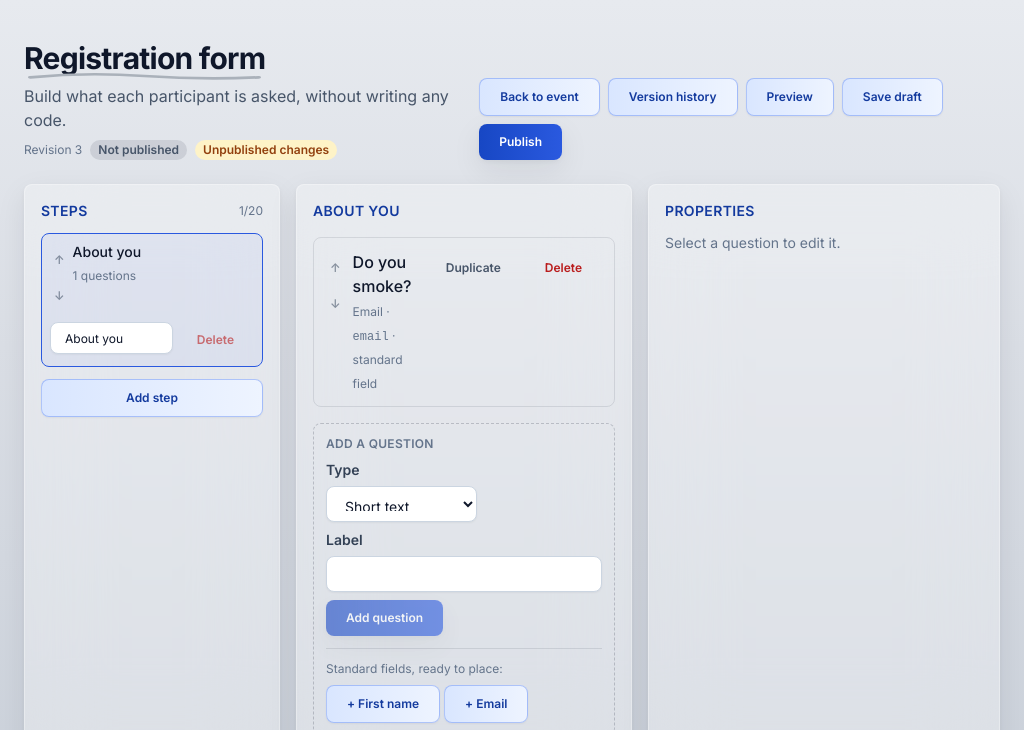
the properties panel › locks the identity of a standard field but not its wording
The width and height of the screenshot is (1024, 730).
What coordinates should you click on to do the following:
click the text "Do you smoke?"
I would click on:
 (385, 274)
Its box is [353,250,418,298].
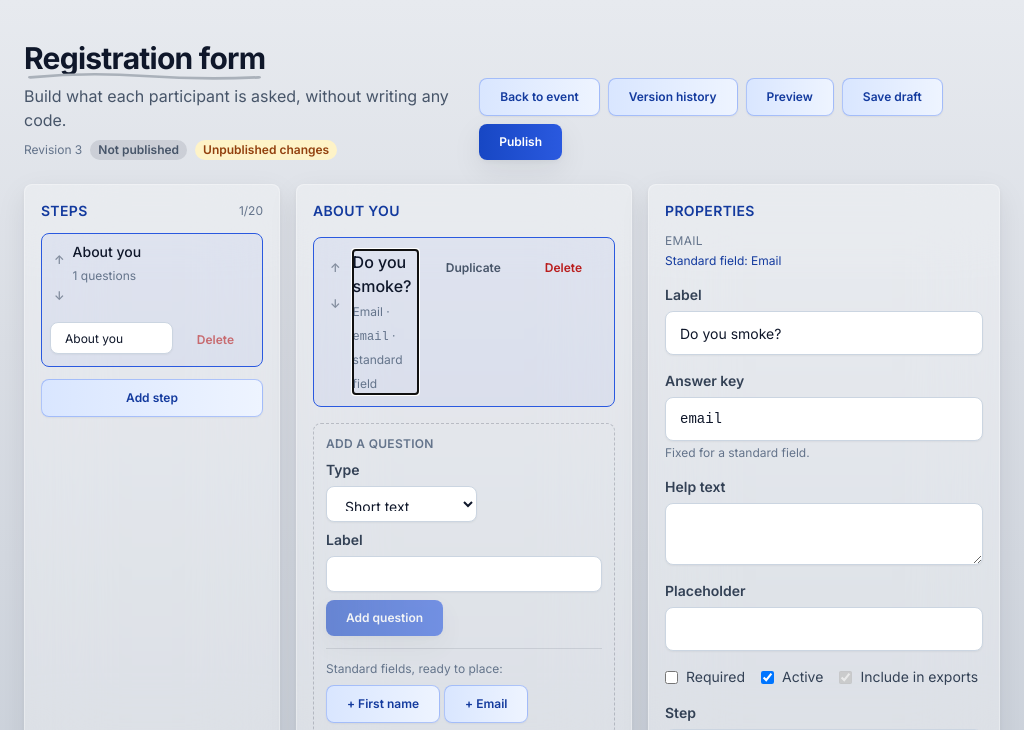
Expected: the field labelled "Answer key" is disabled, [665,397,983,441]
Expected: the field labelled "Label" below "Standard field: Email" is enabled, [665,311,983,355]
Expected: the text "Standard field: Email" is shown, [665,253,781,268]
